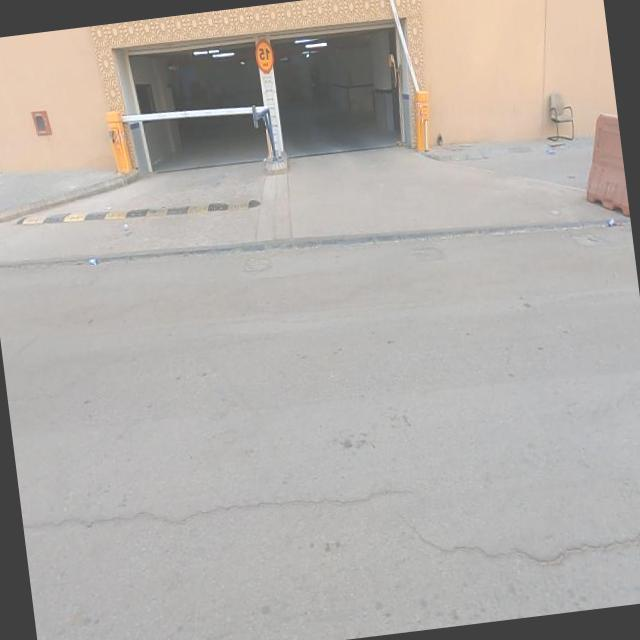debris: (580, 196, 634, 264), (529, 116, 584, 182)
